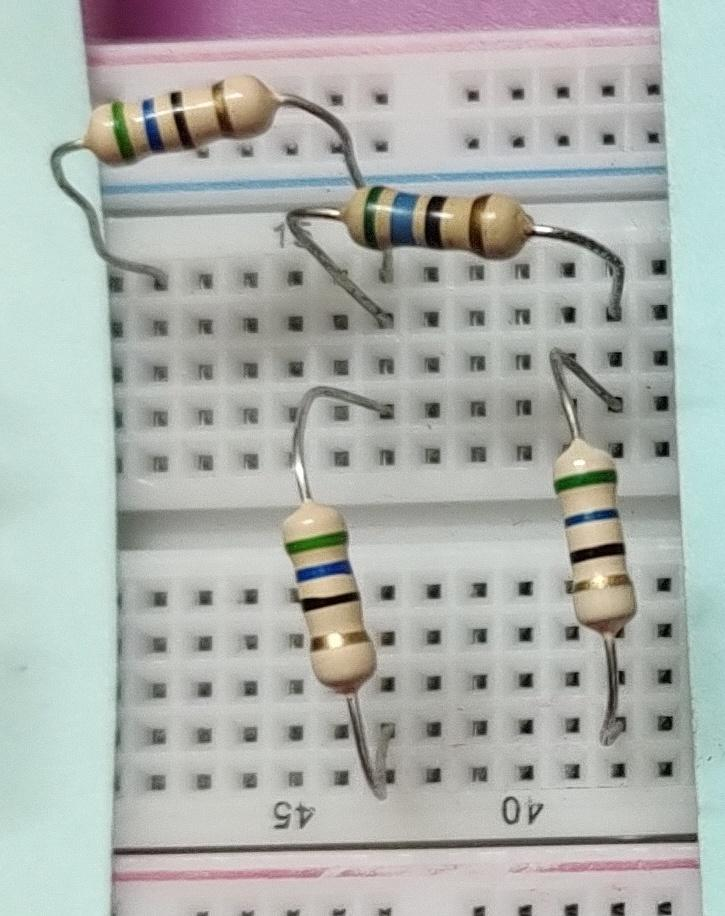resistor: (269, 491, 384, 703), (537, 431, 650, 636), (75, 60, 278, 169), (339, 175, 538, 262)
